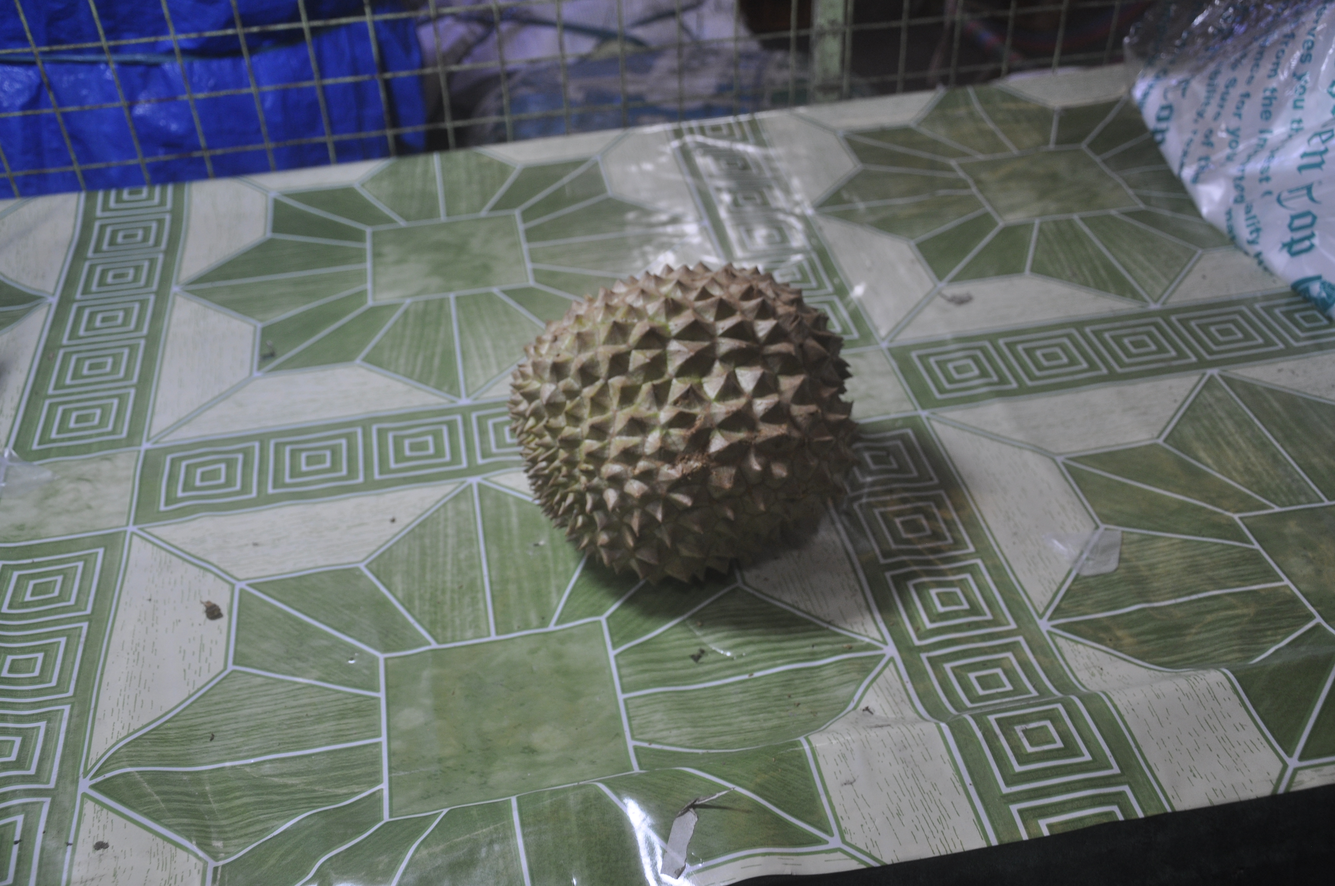mature: (510, 264, 858, 584)
